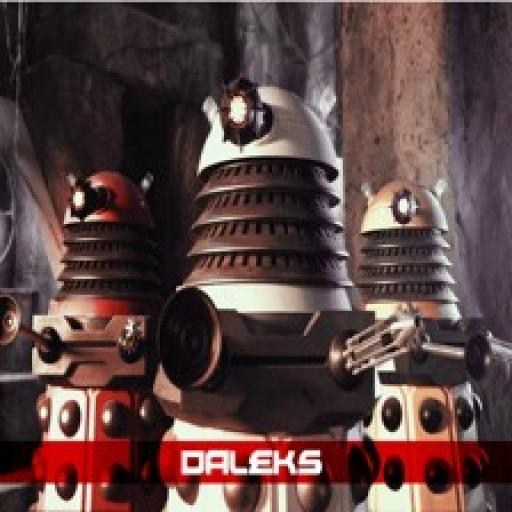dalek: (132, 71, 423, 512), (0, 162, 165, 512), (349, 170, 512, 512)
